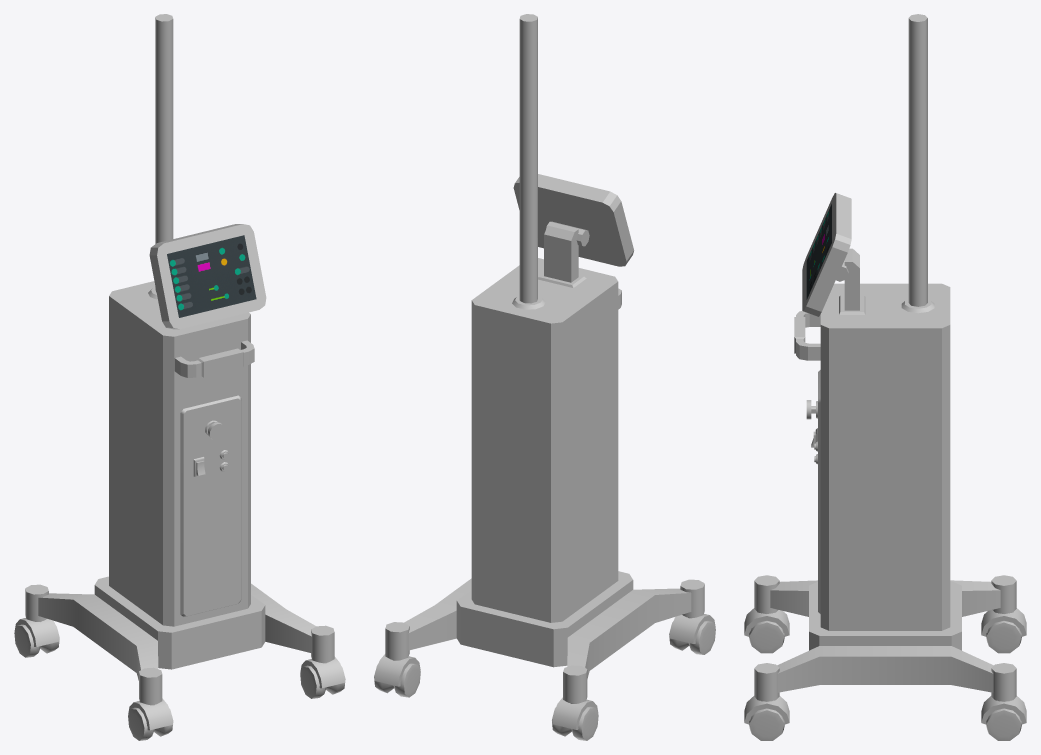
File: Phototherapy_Device_01.fbx
3 renders of one model, left to right at view 1: azimuth 30°, elevation 25°; view 2: azimuth 150°, elevation 25°; view 3: azimuth 270°, elevation 25°, orthographic. The views are drawn at different scales.
Parts seen in each view (by area): view 1: Phototherapy_Device_01; view 2: Phototherapy_Device_01; view 3: Phototherapy_Device_01.
Part boxes in pixels (x1=…): Phototherapy_Device_01: x1=14, y1=14, x2=345, y2=740; Phototherapy_Device_01: x1=374, y1=14, x2=715, y2=740; Phototherapy_Device_01: x1=744, y1=14, x2=1026, y2=740.
Bounding box in the file's own units: 57.53 × 66.73 × 175.
